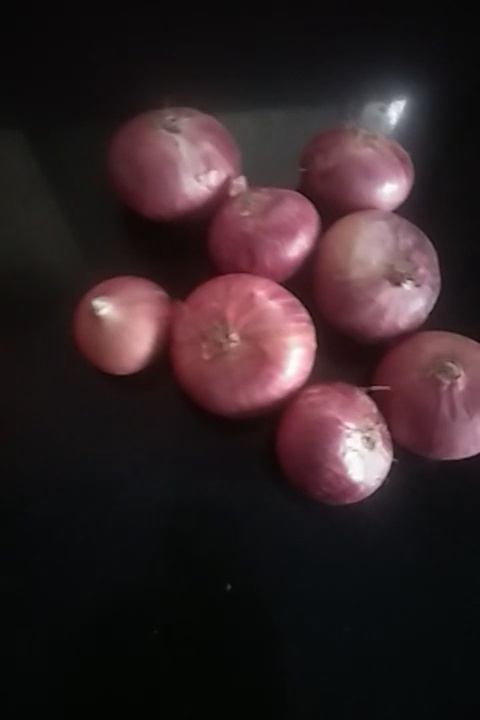onion: (183, 272, 316, 406), (318, 214, 449, 348), (271, 376, 401, 510), (106, 106, 232, 234), (381, 329, 480, 462), (74, 274, 174, 391), (291, 123, 417, 215), (214, 183, 318, 280)
